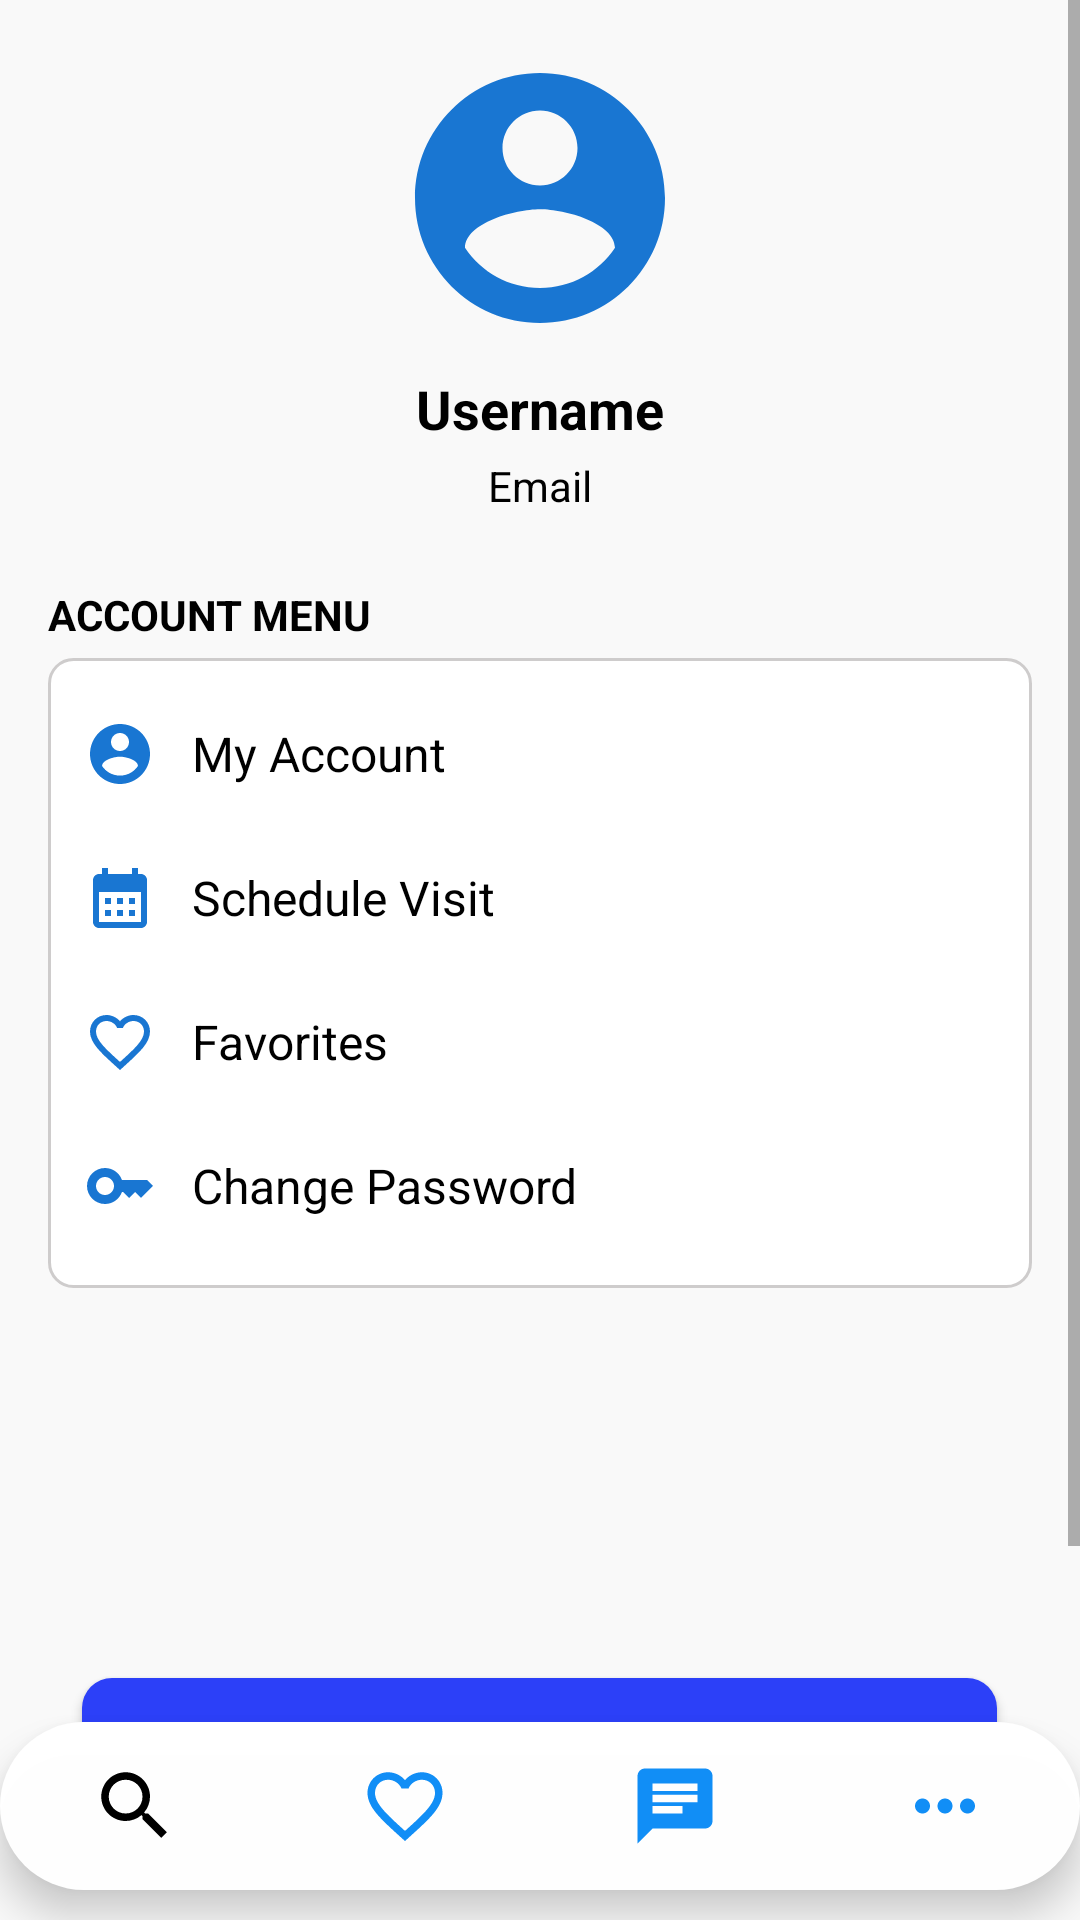

Point at icon controls on the screen. Image size 1080 x 1920, points as (x=x, y=y).
account circle: (x=120, y=754)
calendar month: (x=120, y=898)
key: (x=120, y=1186)
Profile Image: (x=540, y=198)
